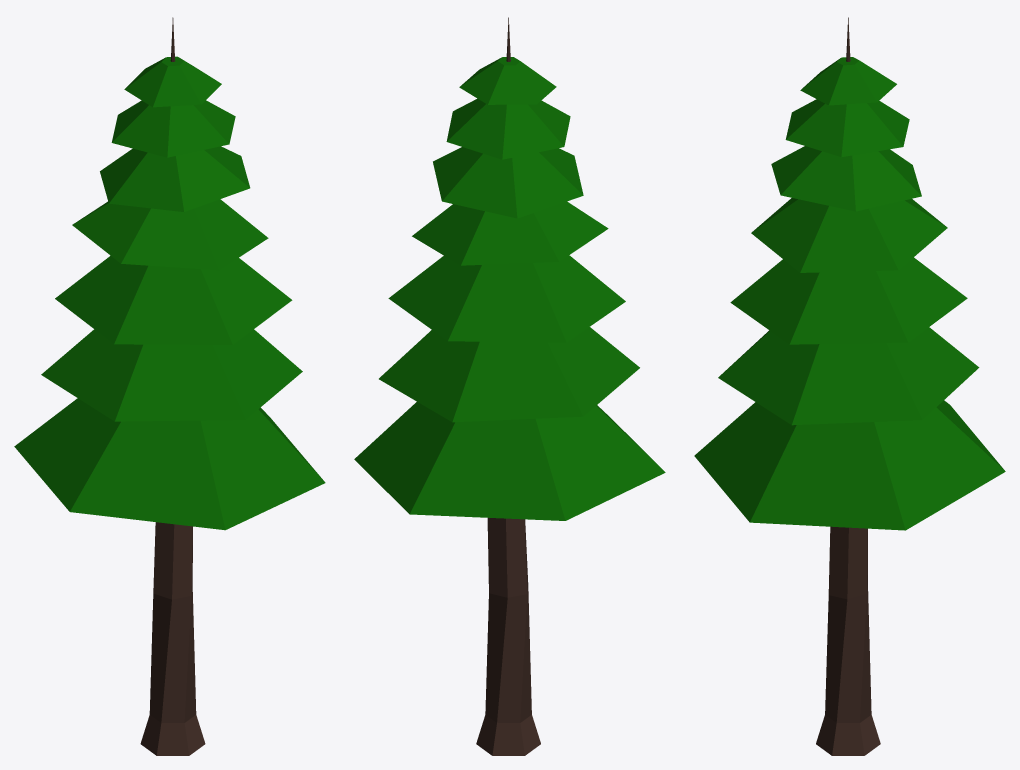
File: Tree.fbx
The picture shows the model from 3 angles, left to right: view 1: azimuth 30°, elevation 25°; view 2: azimuth 150°, elevation 25°; view 3: azimuth 270°, elevation 25°; orthographic projection.
Parts seen in each view (by area): view 1: Cylinder; view 2: Cylinder; view 3: Cylinder.
Boxes of the visible parts, box(x1,y1,x2,y2) form: Cylinder: box(14, 17, 325, 755); Cylinder: box(354, 17, 665, 755); Cylinder: box(694, 17, 1005, 755).
Size of the model in its own units: 294 by 800 by 310.
